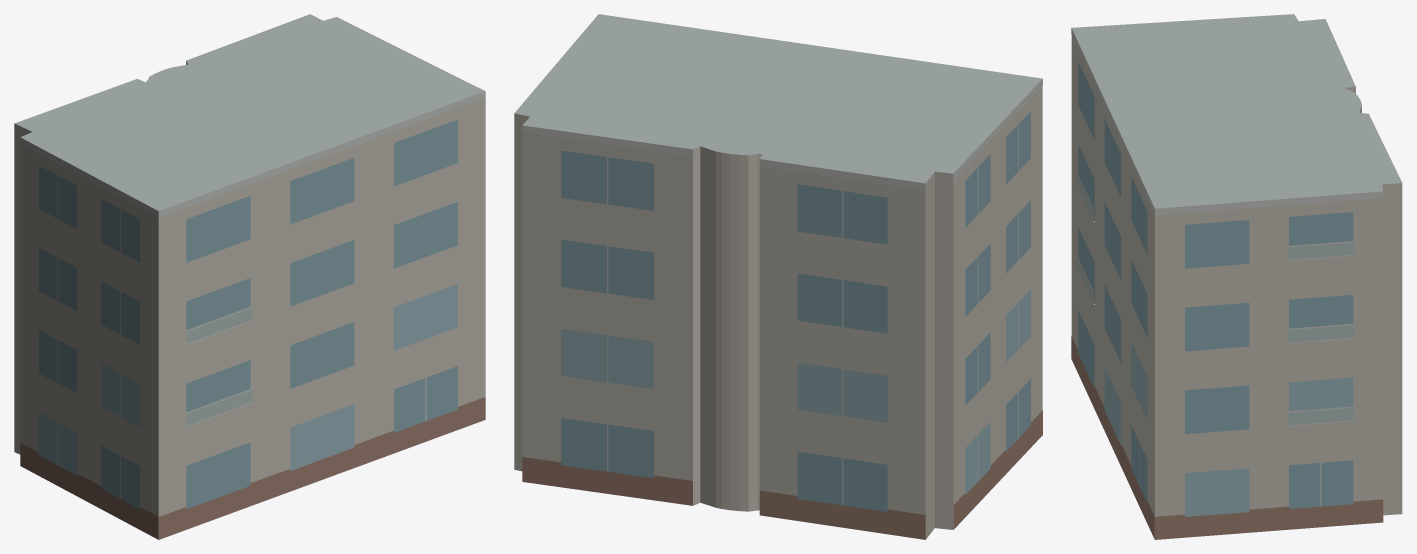
File: survey-upis-32613829.glb
3 renders of one model, left to right at view 1: azimuth 30°, elevation 25°; view 2: azimuth 150°, elevation 25°; view 3: azimuth 270°, elevation 25°, orthographic. The views are drawn at different scales.
Visible parts, largest first — view 1: survey-upis-32613829.tmp; view 2: survey-upis-32613829.tmp; view 3: survey-upis-32613829.tmp.
Part boxes in pixels (x1,y1,x2,y2): survey-upis-32613829.tmp: [14, 14, 485, 539]; survey-upis-32613829.tmp: [514, 14, 1042, 539]; survey-upis-32613829.tmp: [1071, 14, 1402, 539].
Size of the model in its own units: 15.4 by 12.2 by 11.06.
